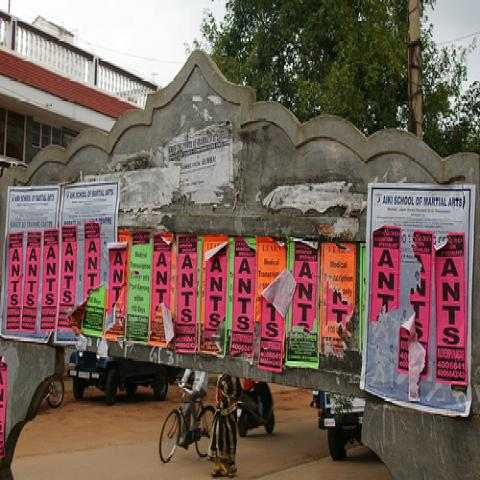car: (66, 348, 179, 405)
motorcycle: (236, 381, 275, 437)
truck: (319, 392, 366, 460)
